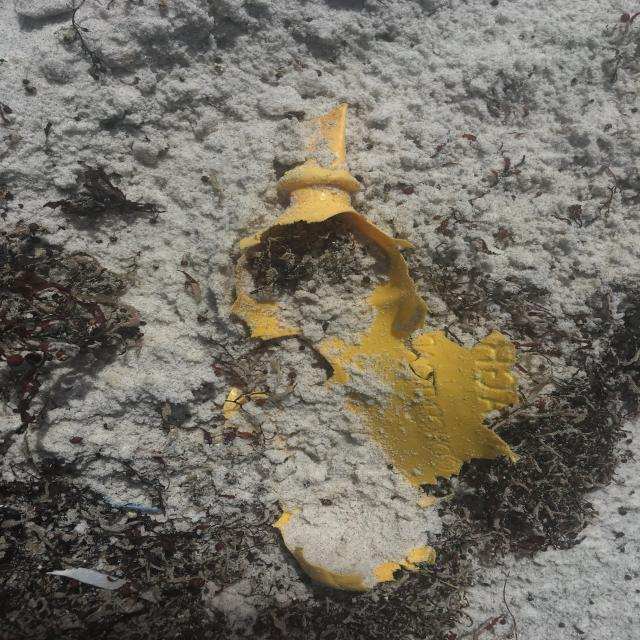litter: (139, 89, 640, 310)
